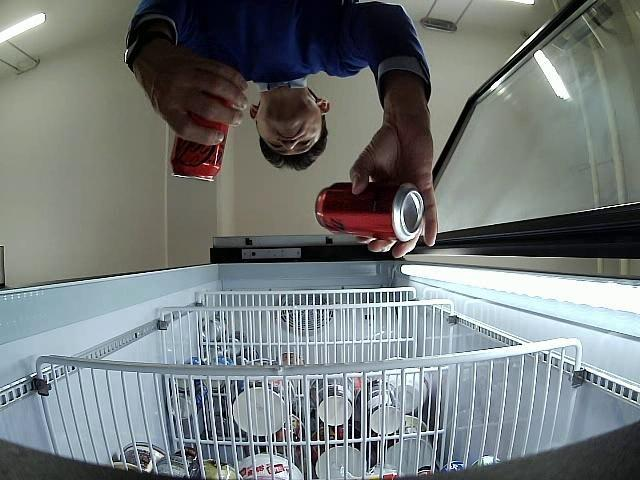11_cocaColaZero: (315, 180, 425, 240), (170, 92, 233, 180)
